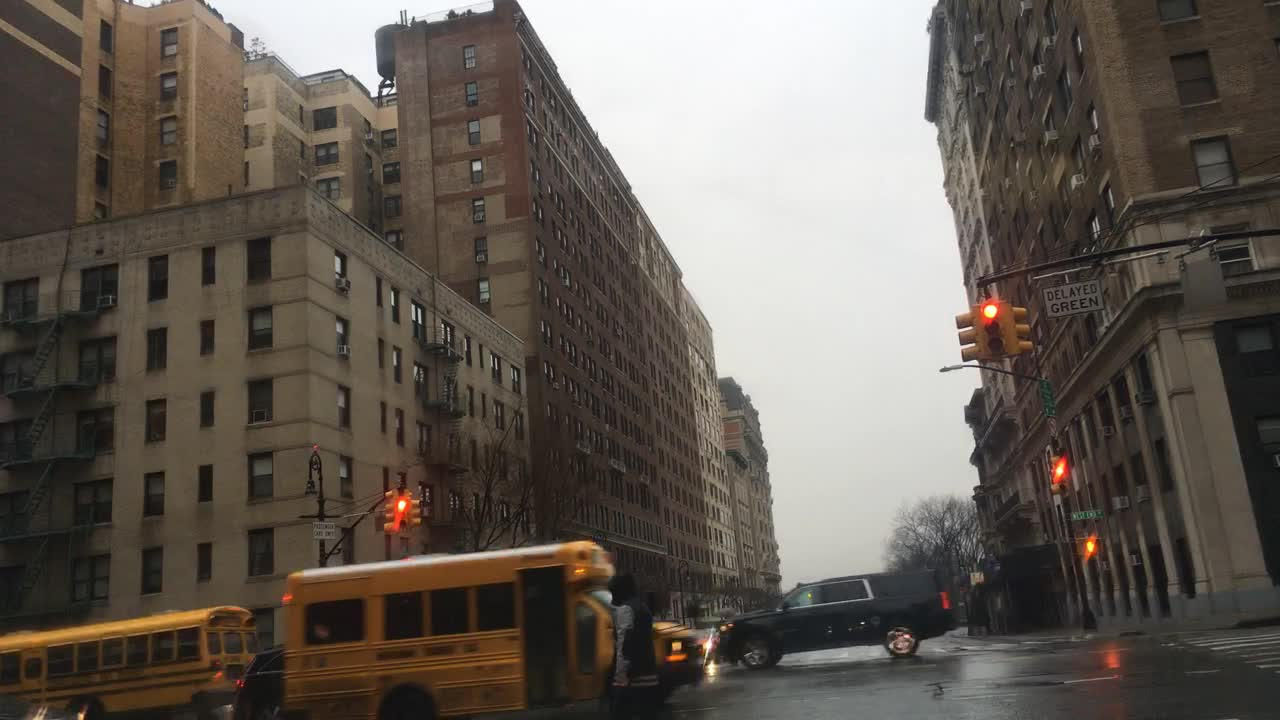bus: (287, 540, 706, 714), (1, 604, 258, 719)
car: (716, 569, 954, 669), (231, 643, 284, 716), (702, 635, 719, 663)
person: (604, 569, 662, 716)
traffic light: (976, 301, 1011, 355), (956, 311, 979, 363), (1015, 309, 1037, 358), (383, 492, 398, 531), (410, 497, 426, 528), (1052, 461, 1069, 483), (396, 500, 408, 527), (1089, 540, 1099, 558)
traffic sign: (1045, 282, 1104, 317), (1040, 380, 1060, 420), (310, 520, 336, 542), (1071, 510, 1104, 523)
